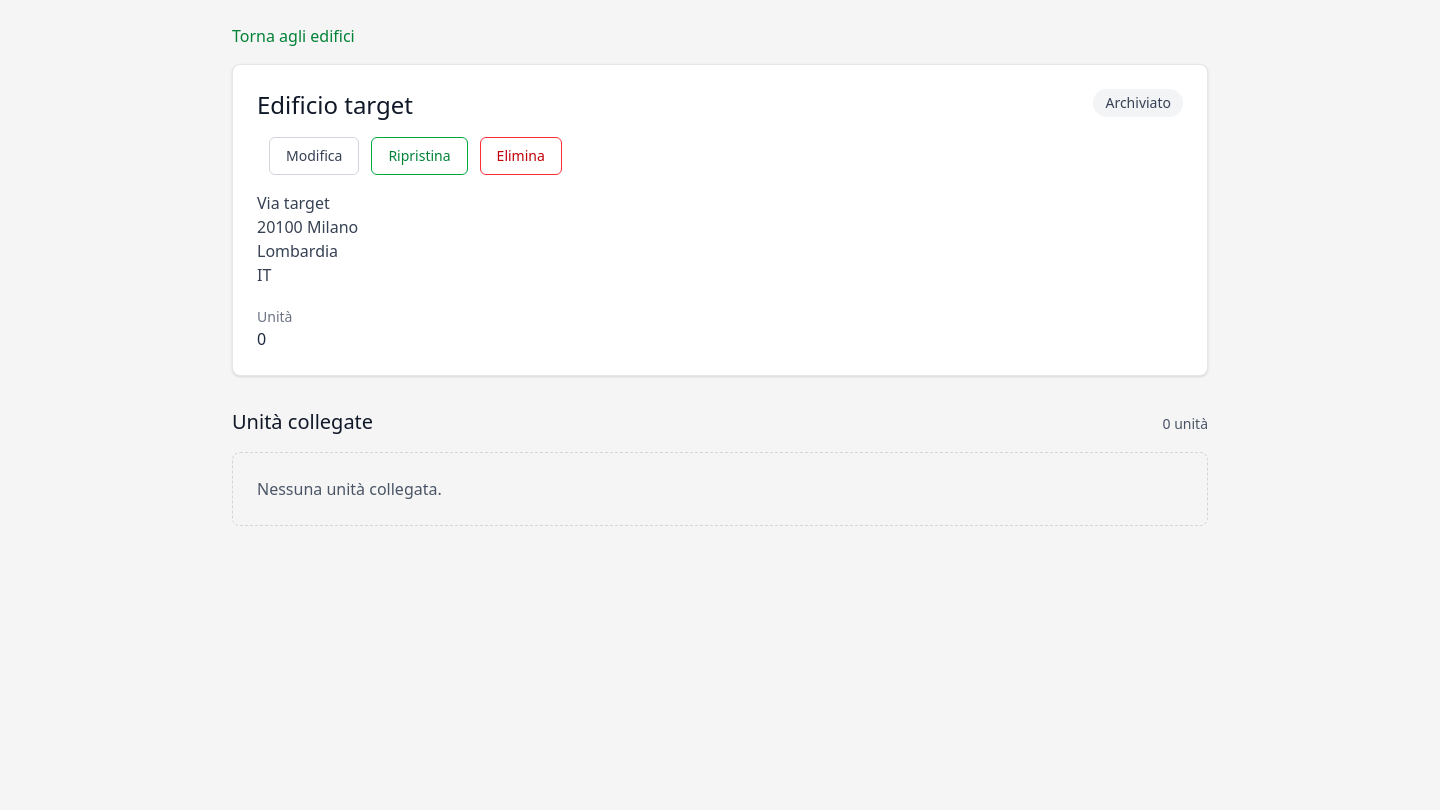
Test case: A6.4 Building detail lifecycle › ripristina realmente e aggiorna action set tramite subscription
Expected: the link "Aggiungi unità" is not shown
Click the button "Ripristina": (420, 156) [371,137,468,175]
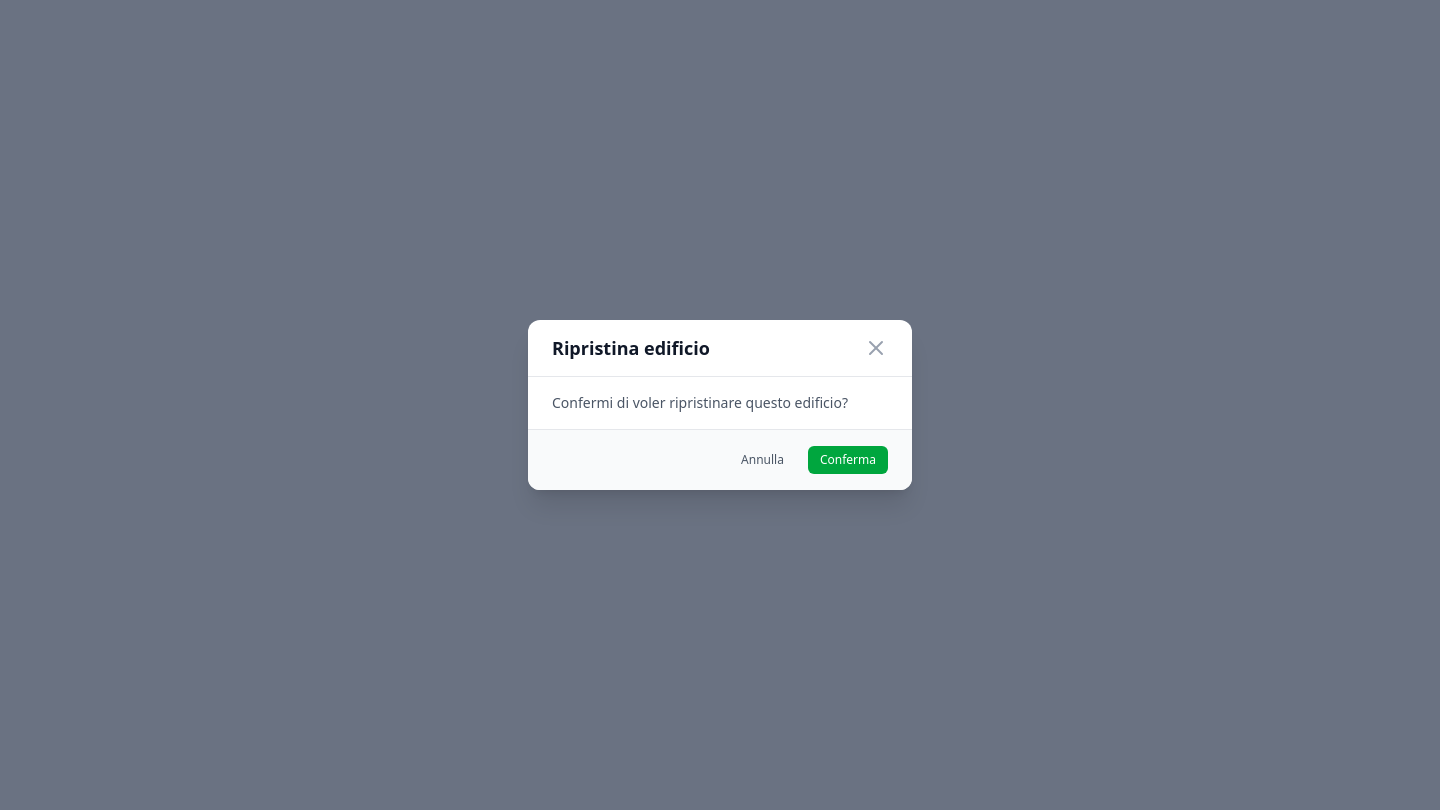
Expected: the heading "Ripristina edificio" is shown, [552,336,710,360]
Click the button "Conferma": (848, 460) [808,446,888,474]
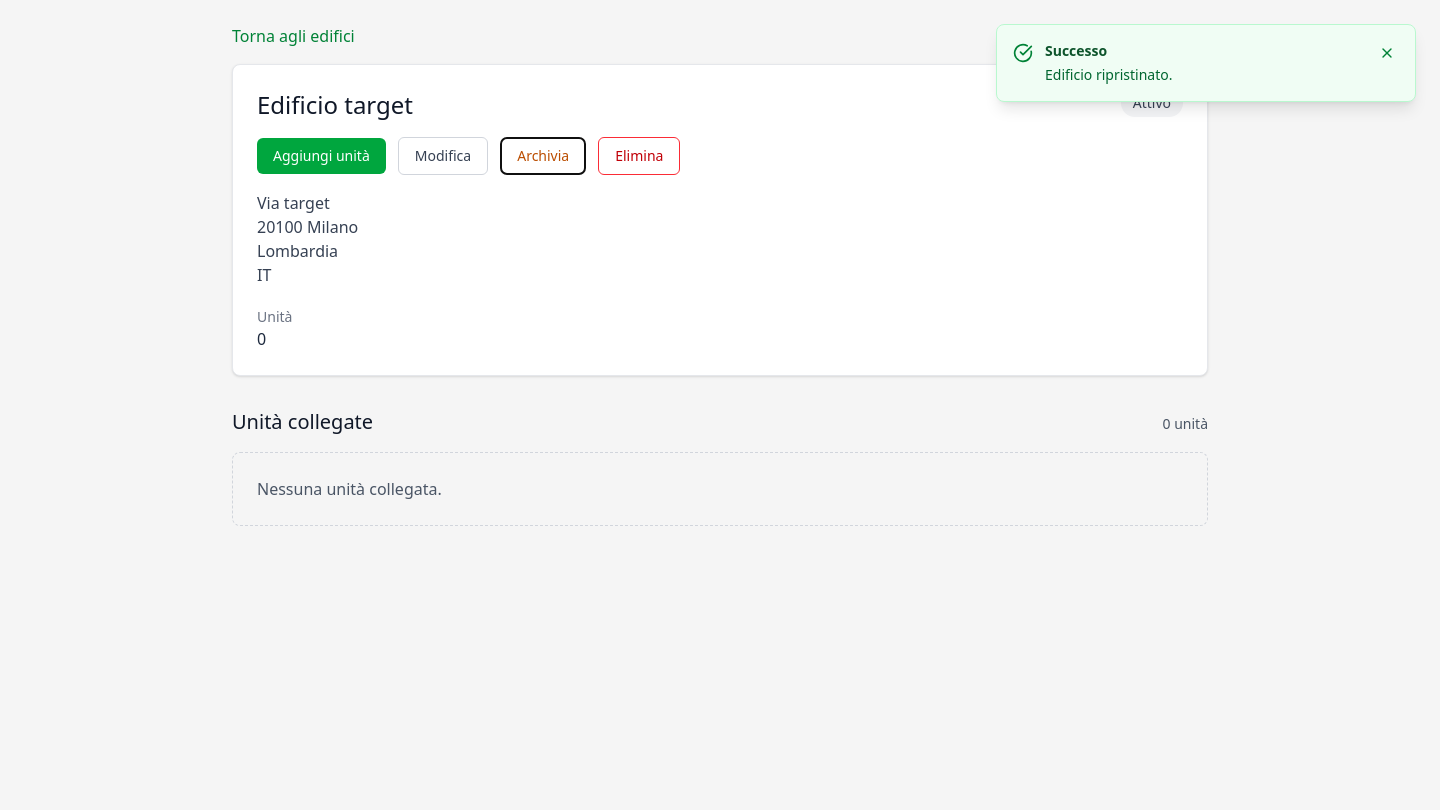
Expected: the text "Edificio ripristinato." is shown, [1045,65,1172,84]
Expected: the text "Attivo" is shown, [1121,89,1183,117]
Expected: the button "Archivia" is shown, [500,137,586,175]
